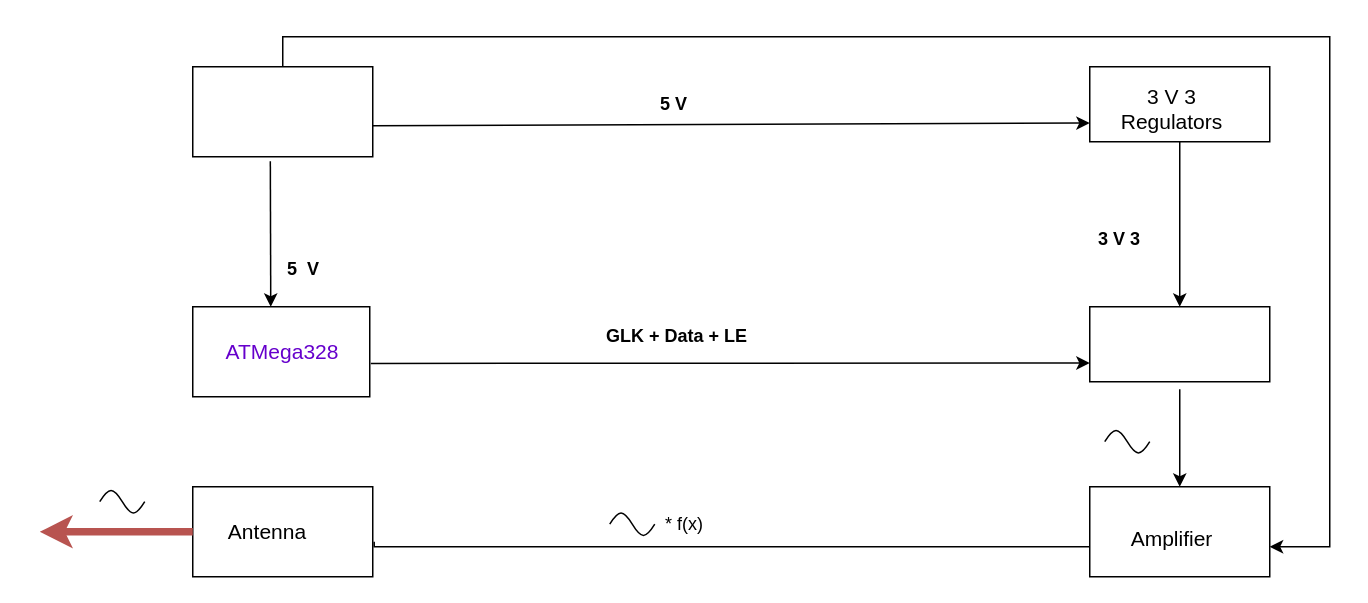
This 1368x603 diagram has some shape labels left out. Each missing label, with the centre of its shape:
"Battery & Regulator" belongs at pixel 282 111.
"Synthesizer" belongs at pixel 1179 343.
